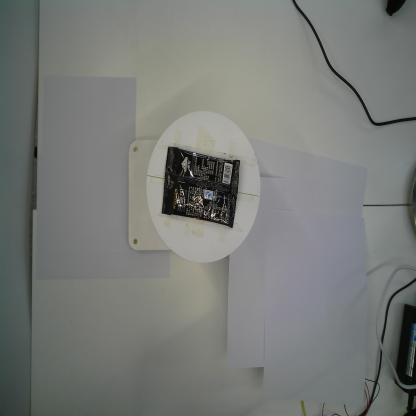Instant Drink: (161, 146, 241, 229)
